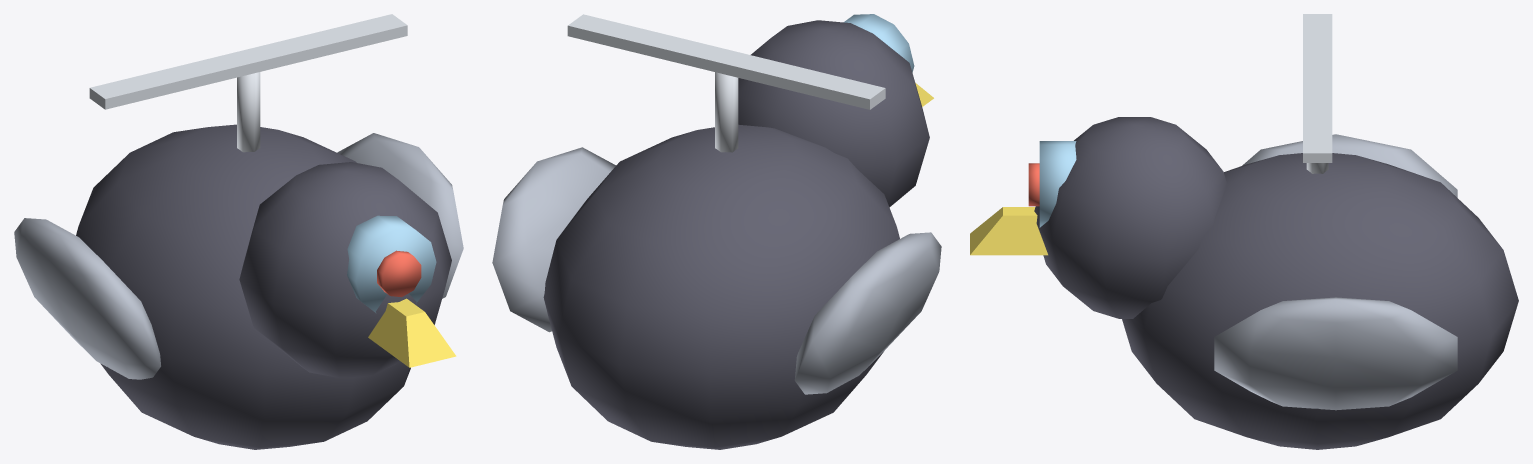
File: Prop_BurungKamera.fbx
3 views of the same model, side by side, from view 1: azimuth 30°, elevation 25°; view 2: azimuth 150°, elevation 25°; view 3: azimuth 270°, elevation 25° (orthographic). The views are drawn at different scales.
Parts seen in each view (by area): view 1: Prop_BurungKamera; view 2: Prop_BurungKamera; view 3: Prop_BurungKamera.
Boxes of the visible parts, x1,y1,x2,y2 form: Prop_BurungKamera: [14, 14, 463, 449]; Prop_BurungKamera: [492, 14, 941, 449]; Prop_BurungKamera: [970, 14, 1518, 449].
Size of the model in its own units: 1.13 by 1.05 by 1.5.
